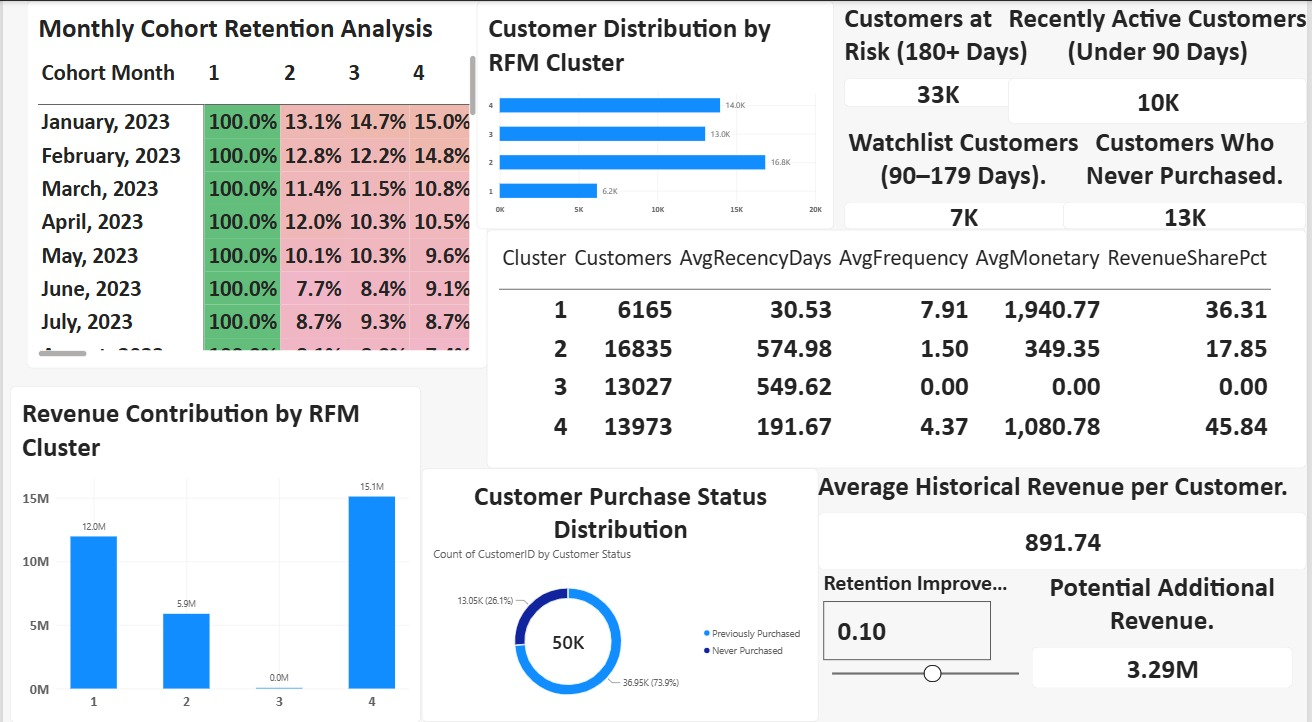

This screenshot's page, from the dashboard's own definition file:
{"tool":"powerbi","page":{"name":"Executive Overview","canvas":[1920,1080],"ordinal":0},"visuals":[{"type":"pivotTable","title":"Monthly Cohort Retention Analysis","fields":{"Columns":["Orders.Cohort Index"],"Rows":["Customers.Cohort Month"],"Values":["Customers.Cohort Retention Correct %"]},"box":[34.4,0,678.6,541],"z":0},{"type":"clusteredBarChart","title":"Customer Distribution by RFM Cluster","fields":{"Category":["RFM_Customers.Cluster"],"Y":["RFM_Customers.Segment Customer Count"]},"box":[697.3,0,525.5,336],"z":1},{"type":"clusteredColumnChart","title":"Revenue Contribution by RFM Cluster","fields":{"Category":["RFM_Customers.Cluster"],"Y":["RFM_Customers.Cluster Revenue"]},"box":[11.1,566.1,603.9,497.3],"z":2},{"type":"cardVisual","title":"Customers at Risk (180+ Days)","fields":{"Data":["RFM_Customers.At-Risk Customers"]},"box":[1238.3,0,275.2,156.4],"z":3},{"type":"cardVisual","title":"Watchlist Customers (90–179 Days).","fields":{"Data":["Cluster_Summary.Watchlist Customers"]},"box":[1237.9,181.9,351.2,154.1],"z":4},{"type":"cardVisual","title":"Recently Active Customers (Under 90 Days)","fields":{"Data":["Cluster_Summary.Recently Active Customers"]},"box":[1479.1,0,440.9,181.4],"z":5},{"type":"tableEx","fields":{"Values":["Cluster_Summary.Cluster","Cluster_Summary.Customers","Cluster_Summary.AvgRecencyDays","Cluster_Summary.AvgFrequency","Cluster_Summary.AvgMonetary","Cluster_Summary.RevenueSharePct"]},"box":[712.4,336,1207.6,351.2],"z":6},{"type":"cardVisual","title":"Customers Who Never Purchased.","fields":{"Data":["Cluster_Summary.Never Purchased Customers"]},"box":[1561.3,181.9,358.7,154.1],"z":7},{"type":"donutChart","title":"Customer Purchase Status Distribution","fields":{"Category":["RFM_Customers.Customer Status"],"Y":["Count(RFM_Customers.CustomerID)"]},"box":[615.9,688.9,584.1,374.6],"z":8},{"type":"cardVisual","title":"Average Historical Revenue per Customer.","fields":{"Data":["Cluster_Summary.Average Customer Lifetime Value"]},"box":[1200,688.9,720.6,149.2],"z":9},{"type":"slicer","fields":{"Values":["Retention Improvement %.Retention Improvement %"]},"box":[1200,838.1,314.3,225.4],"z":10},{"type":"cardVisual","title":"Potential Additional Revenue.","fields":{"Data":["Cluster_Summary.Potential Additional Revenue"]},"box":[1514.3,838.1,384.1,174.6],"z":11}]}

Visuals, with their boxes in screenshot pixels (x1, y1, x2, y2), scaled from the page's 1920x1080 canvas onto the 1312x722 screenshot:
"Monthly Cohort Retention Analysis" pivotTable: BBox(24, 0, 487, 362)
"Customer Distribution by RFM Cluster" clusteredBarChart: BBox(476, 0, 836, 225)
"Revenue Contribution by RFM Cluster" clusteredColumnChart: BBox(8, 378, 420, 711)
"Customers at Risk (180+ Days)" cardVisual: BBox(846, 0, 1034, 105)
"Watchlist Customers (90–179 Days)." cardVisual: BBox(846, 122, 1086, 225)
"Recently Active Customers (Under 90 Days)" cardVisual: BBox(1011, 0, 1311, 121)
tableEx - Cluster_Summary.Cluster x Cluster_Summary.Customers: BBox(487, 225, 1311, 459)
"Customers Who Never Purchased." cardVisual: BBox(1067, 122, 1311, 225)
"Customer Purchase Status Distribution" donutChart: BBox(421, 461, 820, 711)
"Average Historical Revenue per Customer." cardVisual: BBox(820, 461, 1311, 560)
slicer - Retention Improvement %.Retention Improvement %: BBox(820, 560, 1035, 711)
"Potential Additional Revenue." cardVisual: BBox(1035, 560, 1297, 677)
